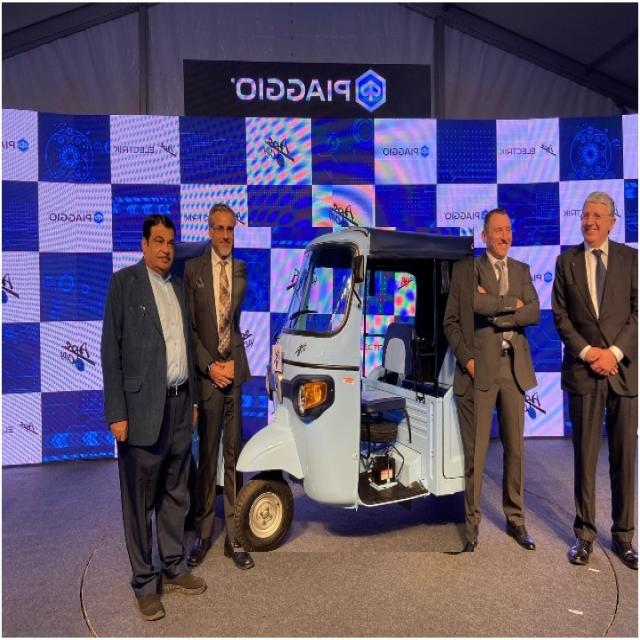autorickshaw: (234, 227, 474, 552)
